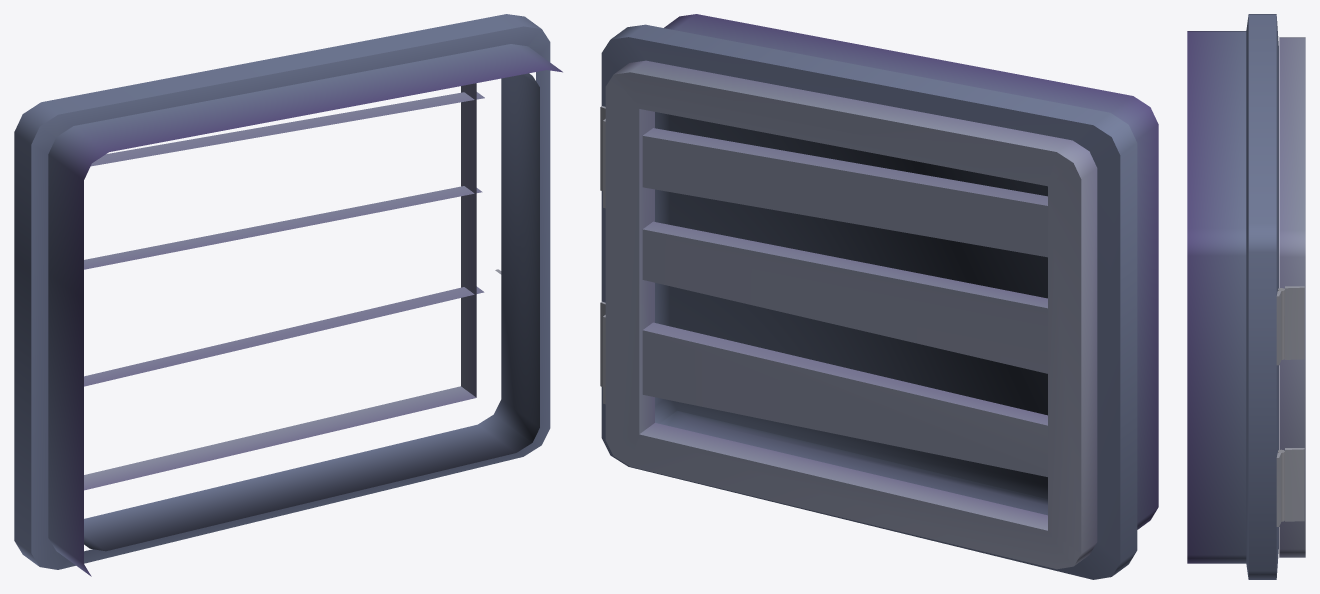
The model's file is prop-grate_hatch.glb.
The picture shows the model from 3 angles, left to right: view 1: azimuth 30°, elevation 25°; view 2: azimuth 150°, elevation 25°; view 3: azimuth 270°, elevation 25°; orthographic projection. The views are drawn at different scales.
Visible parts, largest first — view 1: prop-grate_hatch; view 2: prop-grate_hatch; view 3: prop-grate_hatch.
Part boxes in pixels (x1=…): prop-grate_hatch: x1=14, y1=14, x2=562, y2=576; prop-grate_hatch: x1=600, y1=14, x2=1158, y2=579; prop-grate_hatch: x1=1187, y1=14, x2=1305, y2=579.
Bounding box in the file's own units: 2.44 × 2.04 × 0.5815.
